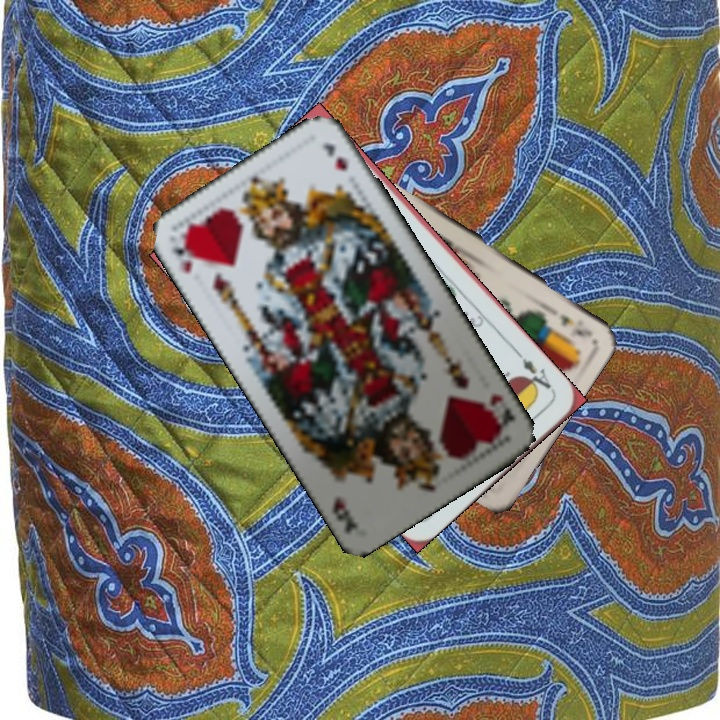EA: (512, 347, 558, 398)
EK: (554, 310, 595, 340)
HK: (478, 389, 519, 435), (170, 230, 200, 277)
